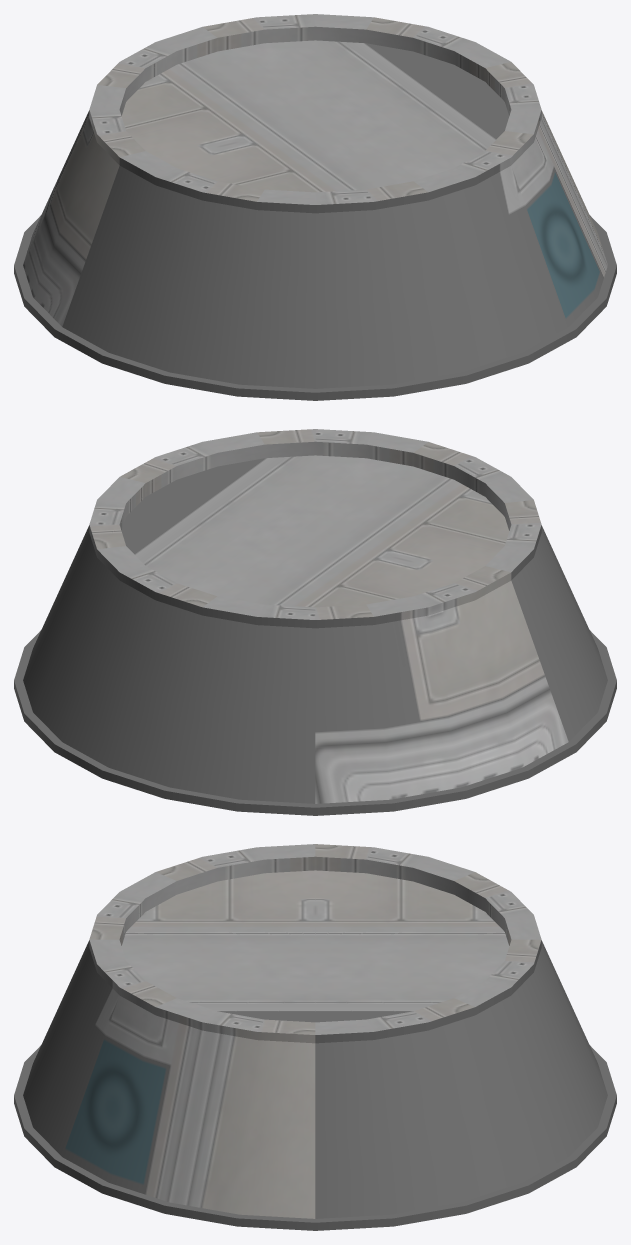
Rendered from vega_crew_s2_2_1.obj.
3 renders of one model, top to bottom at view 1: azimuth 30°, elevation 25°; view 2: azimuth 150°, elevation 25°; view 3: azimuth 270°, elevation 25°, orthographic.
Parts seen in each view (by area): view 1: vega_crew_s2_2_1; view 2: vega_crew_s2_2_1; view 3: vega_crew_s2_2_1.
Boxes of the visible parts, x1=… form: vega_crew_s2_2_1: x1=14, y1=14, x2=616, y2=400; vega_crew_s2_2_1: x1=14, y1=429, x2=616, y2=815; vega_crew_s2_2_1: x1=14, y1=844, x2=616, y2=1230.
Bounding box in the file's own units: 2.5 × 0.78 × 2.5.
